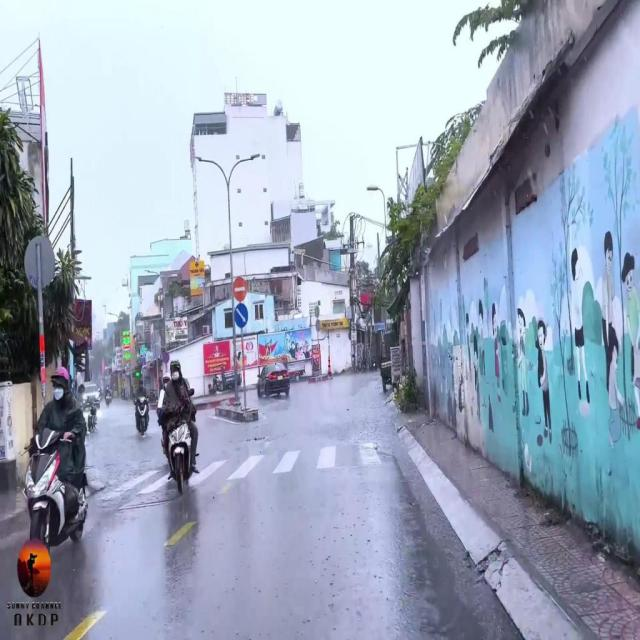cam_xe_di_nguoc_chieu: (232, 276, 248, 302)
huong_phai_di_vuot_chuong_ngai_vat_phai: (234, 302, 249, 327)
